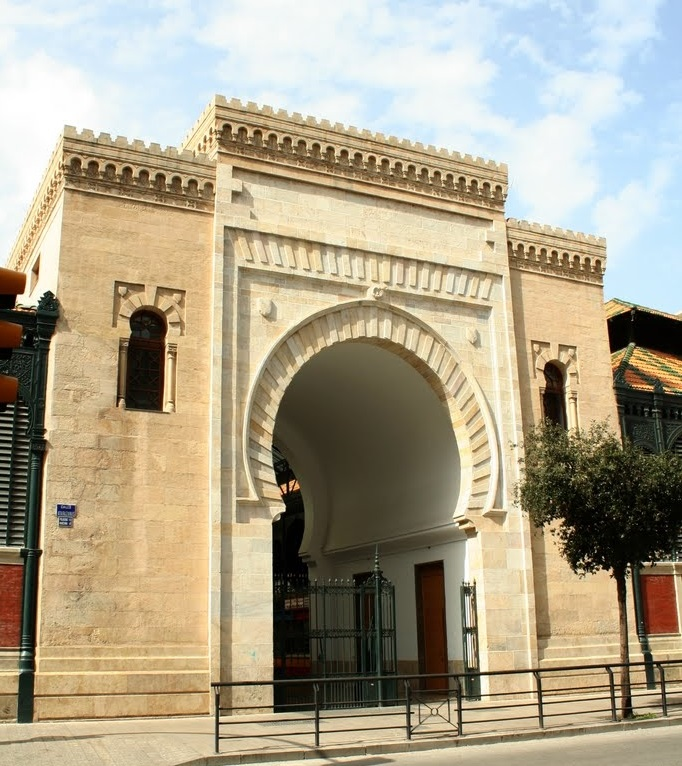arco-herradura: (244, 296, 508, 547), (113, 286, 184, 352), (532, 347, 580, 400)
dintel-adovelado: (225, 225, 493, 303)
